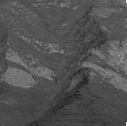Target: (49, 75, 61, 84)
